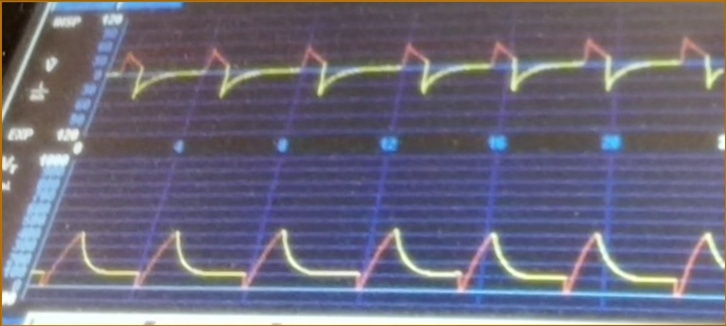Flow: (119, 25, 720, 132)
Leakage Volume: (46, 217, 724, 311)
